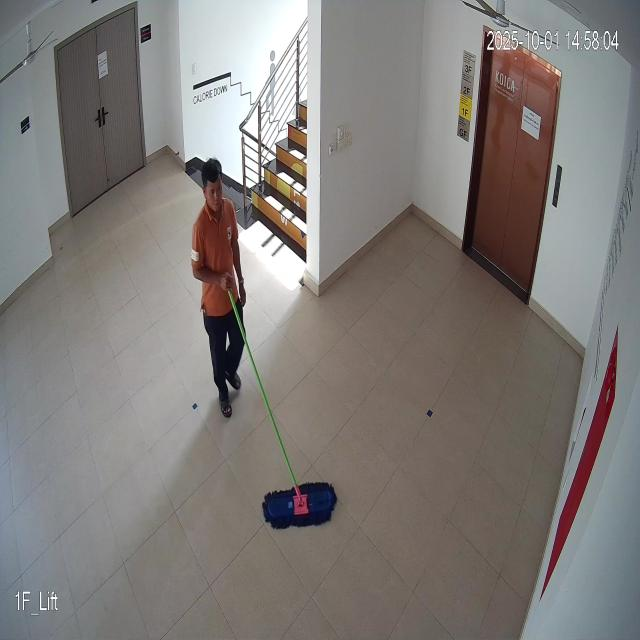face: (203, 155, 226, 211)
